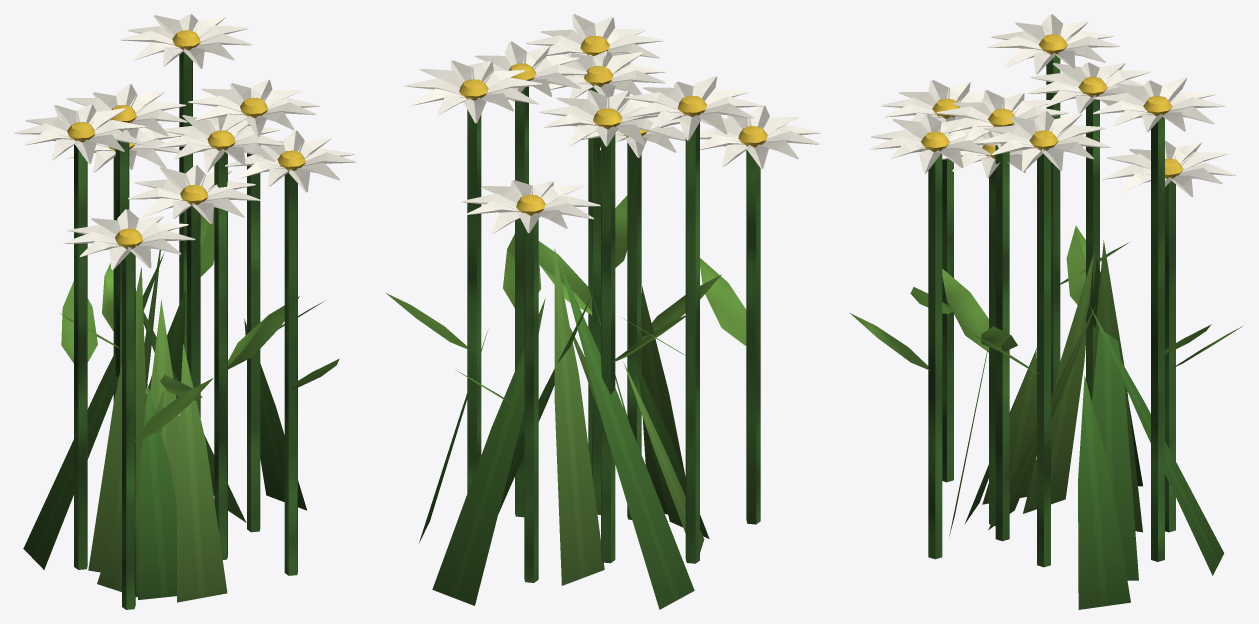
Rendered from SM_Flowers_Daisy.obj.
3 renders of one model, left to right at view 1: azimuth 30°, elevation 25°; view 2: azimuth 150°, elevation 25°; view 3: azimuth 270°, elevation 25°, orthographic. The views are drawn at different scales.
Visible parts, largest first — view 1: SM_Flowers_Daisy; view 2: SM_Flowers_Daisy; view 3: SM_Flowers_Daisy.
Part boxes in pixels (x1=…): SM_Flowers_Daisy: x1=14, y1=14, x2=356, y2=609; SM_Flowers_Daisy: x1=386, y1=14, x2=820, y2=609; SM_Flowers_Daisy: x1=850, y1=14, x2=1242, y2=609.
Bounding box in the file's own units: 0.2833 × 0.4239 × 0.3218.
Materials: 1 (1 with a texture image).
